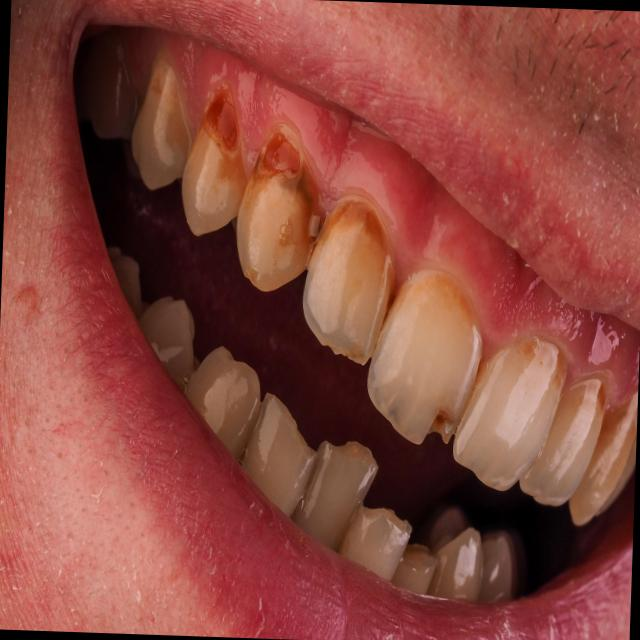Caries: (275, 165, 314, 207)
Cavity: (246, 126, 300, 193), (203, 83, 240, 160)
Crack: (426, 407, 454, 443)
Tooth: (367, 269, 481, 446), (452, 336, 568, 492), (302, 193, 395, 366), (236, 124, 318, 291), (519, 375, 607, 506), (181, 82, 248, 237), (240, 392, 319, 519), (294, 440, 378, 552), (569, 390, 637, 525), (183, 346, 260, 461), (130, 48, 192, 190), (337, 504, 412, 581), (138, 296, 199, 384)
